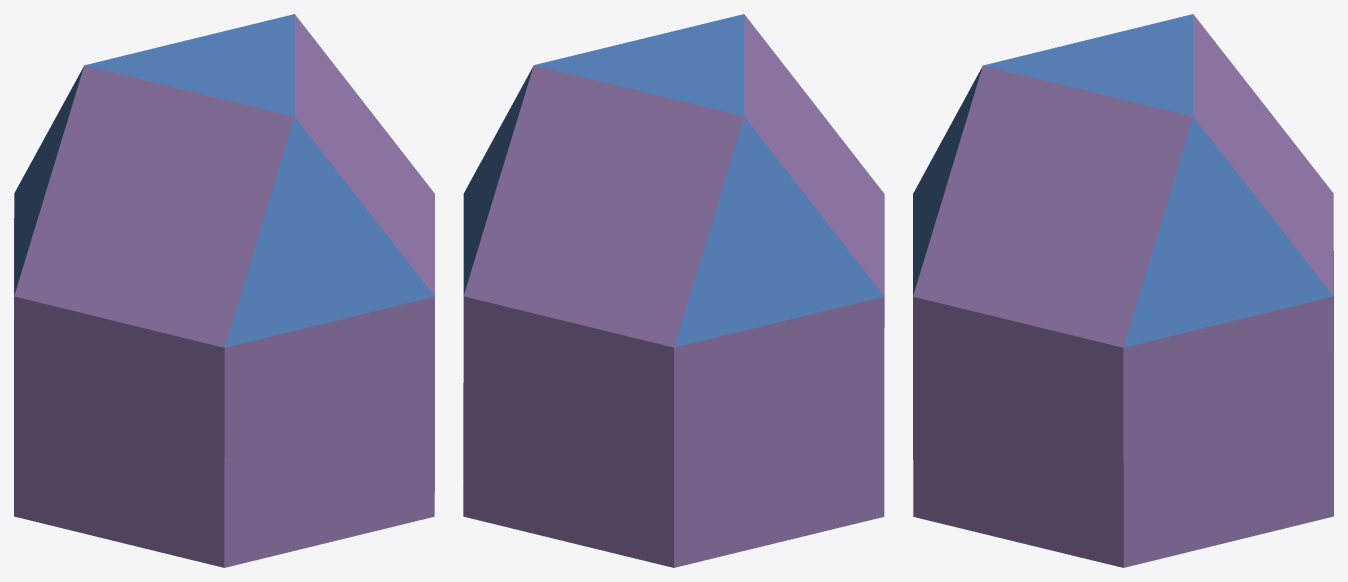
File: J18.CupulaTriangularElongada.gltf
3 renders of one model, left to right at view 1: azimuth 30°, elevation 25°; view 2: azimuth 150°, elevation 25°; view 3: azimuth 270°, elevation 25°, orthographic.
Parts seen in each view (by area): view 1: J18.CupulaTriangularElongada; view 2: J18.CupulaTriangularElongada; view 3: J18.CupulaTriangularElongada.
Part boxes in pixels (x1,y1,x2,y2): J18.CupulaTriangularElongada: [14, 14, 434, 567]; J18.CupulaTriangularElongada: [463, 14, 884, 567]; J18.CupulaTriangularElongada: [913, 14, 1333, 567].
Size of the model in its own units: 13.91 by 12.64 by 12.06.
